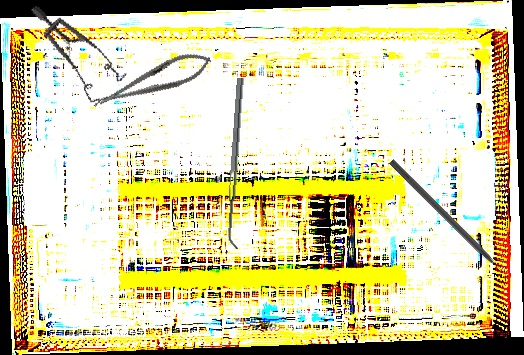Hook Surgical: (387, 158, 515, 285)
Needle Holder: (93, 44, 216, 116)
Spatula Surgical: (225, 77, 250, 250)
Speculum: (7, 5, 139, 113)
